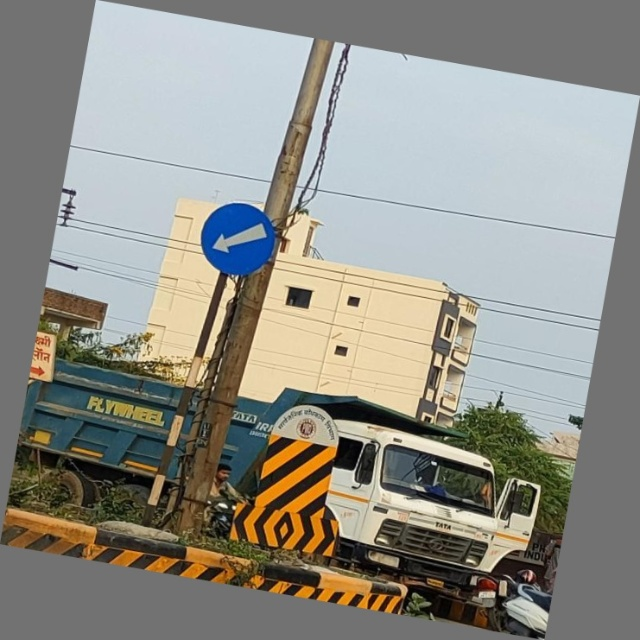R.301e: (195, 196, 286, 283)
